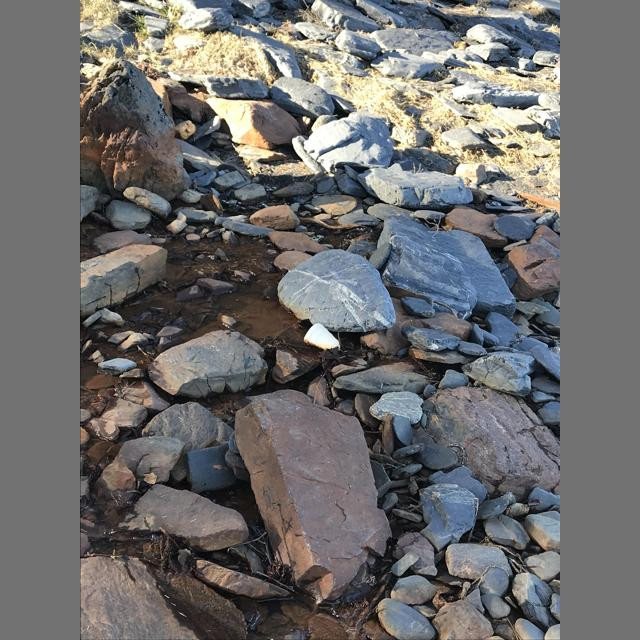litter: (303, 323, 340, 350)
